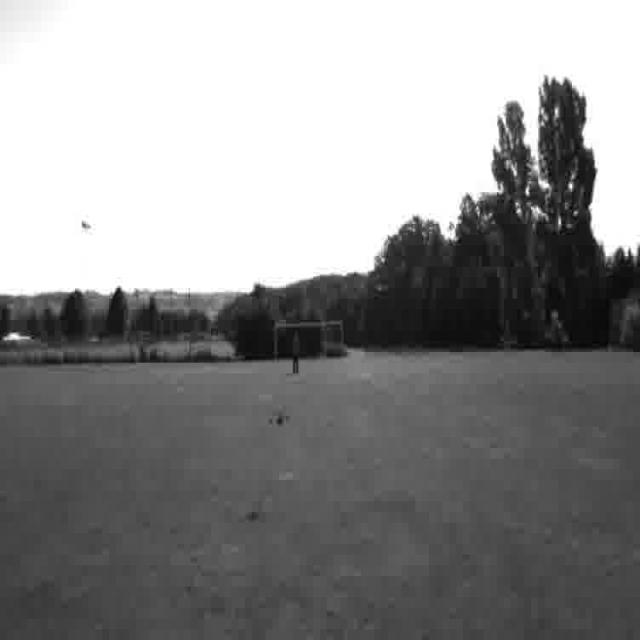drones: (266, 404, 294, 436)
